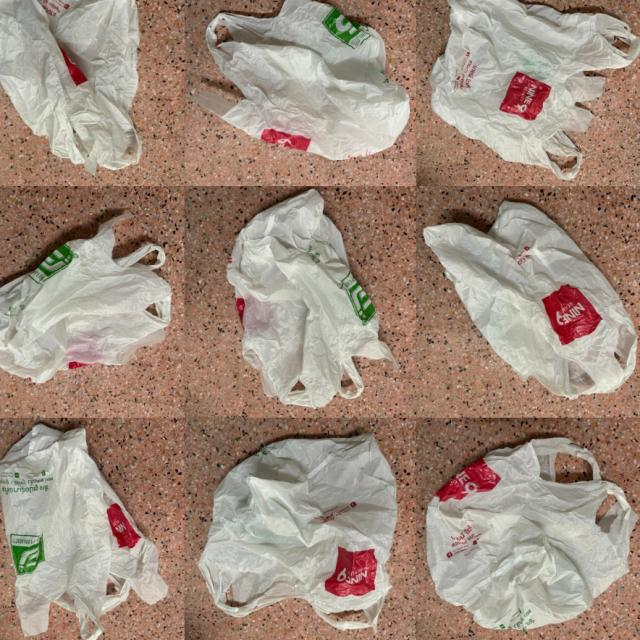plastik: (424, 202, 637, 398), (427, 438, 637, 630), (199, 434, 397, 630), (429, 0, 640, 180), (227, 189, 397, 408), (0, 424, 167, 640), (193, 0, 409, 159), (0, 214, 171, 383), (0, 0, 142, 173)
